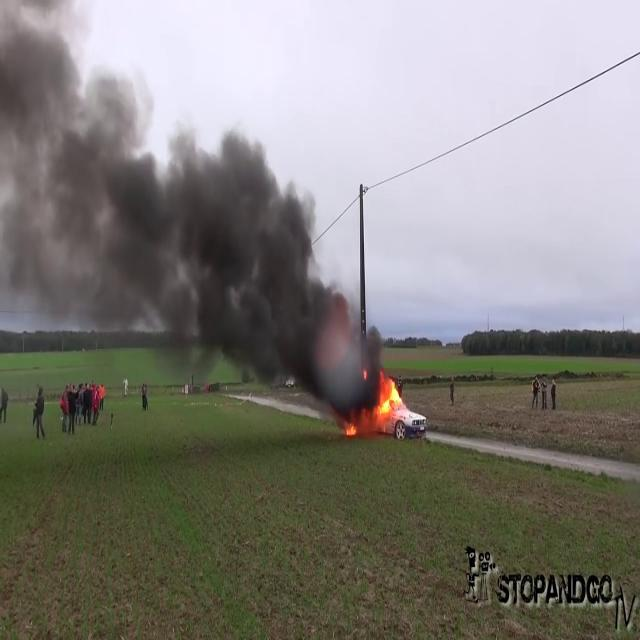Fire: (373, 371, 409, 428), (346, 410, 360, 443)
Smoke: (0, 35, 366, 379)
